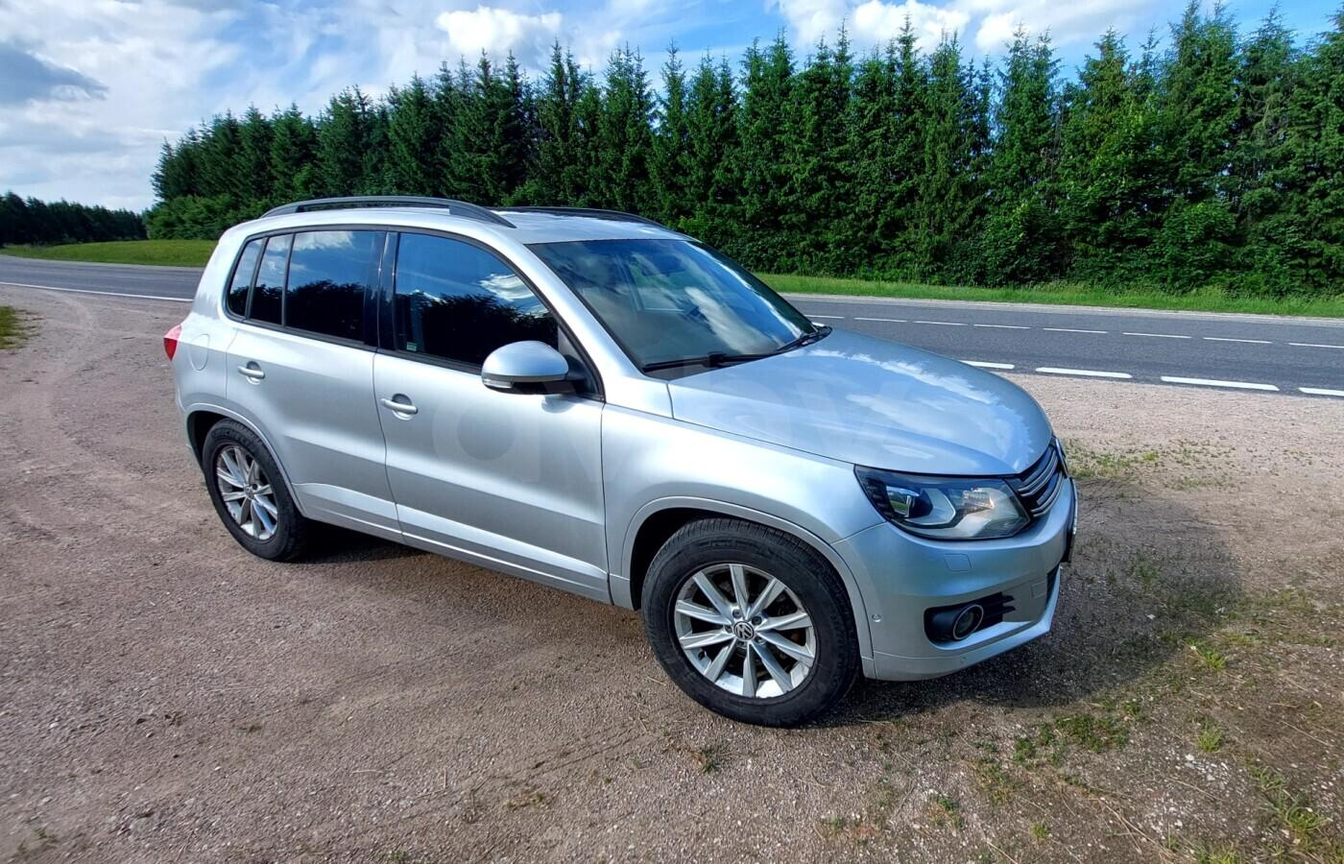Tiguan_2011-2018: (161, 206, 1078, 724)
